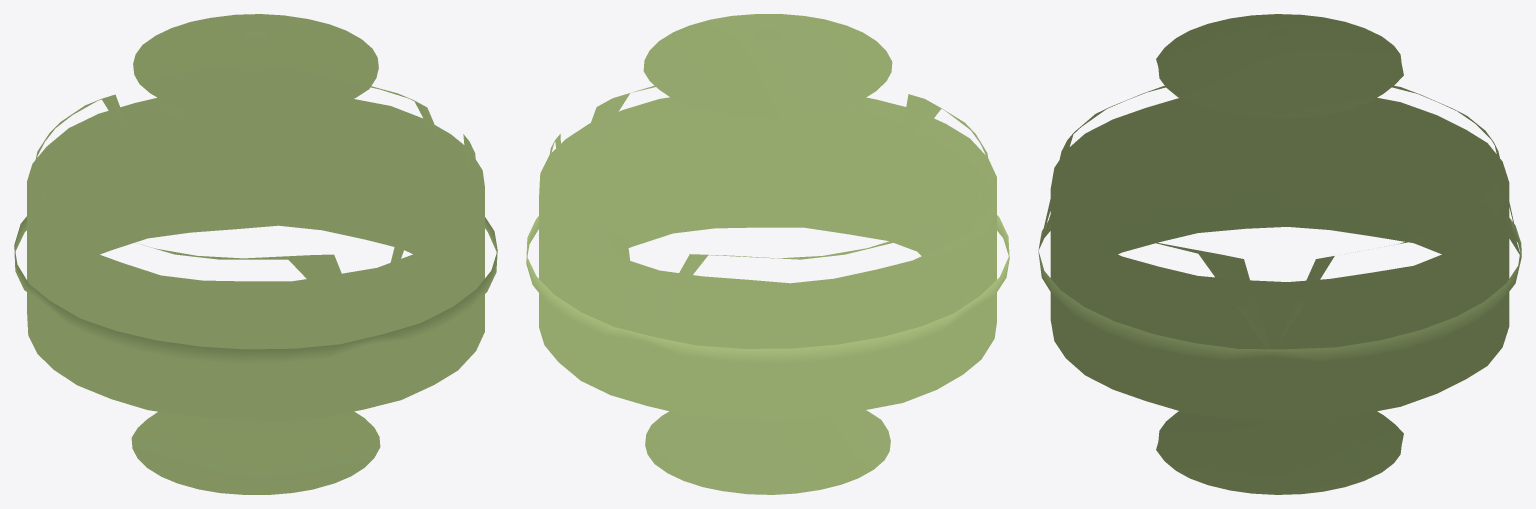
The model's file is sys-dsf-frp_piping.glb.
The picture shows the model from 3 angles, left to right: view 1: azimuth 30°, elevation 25°; view 2: azimuth 150°, elevation 25°; view 3: azimuth 270°, elevation 25°; orthographic projection.
Parts seen in each view (by area): view 1: TS-dsf-frp_piping-1400; view 2: TS-dsf-frp_piping-1400; view 3: TS-dsf-frp_piping-1400.
Part boxes in pixels (box(x1,y1,x2,y2)): TS-dsf-frp_piping-1400: box(14, 14, 497, 494); TS-dsf-frp_piping-1400: box(526, 14, 1009, 494); TS-dsf-frp_piping-1400: box(1038, 14, 1521, 494).
Size of the model in its own units: 2 by 2 by 2.
